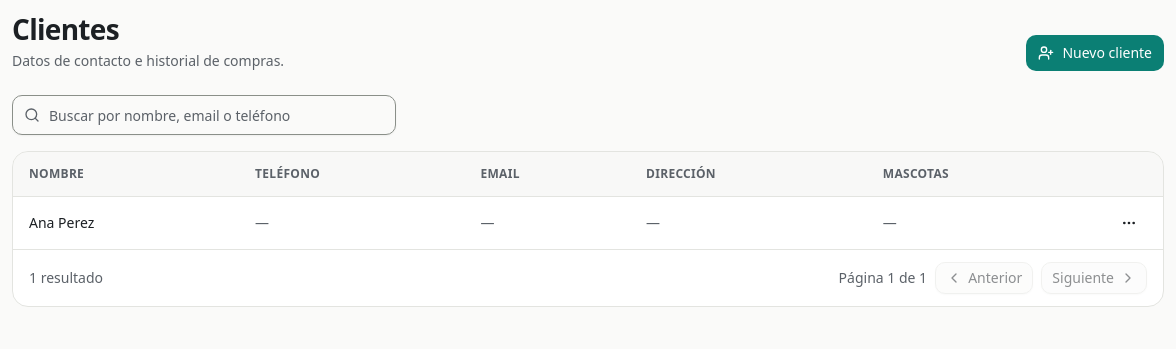
Test: ClientesPage › la dueña ve el menú de acciones
Step 1. Click the button named "Acciones de Ana Perez" → (1129, 222), box [1111, 204, 1147, 240]
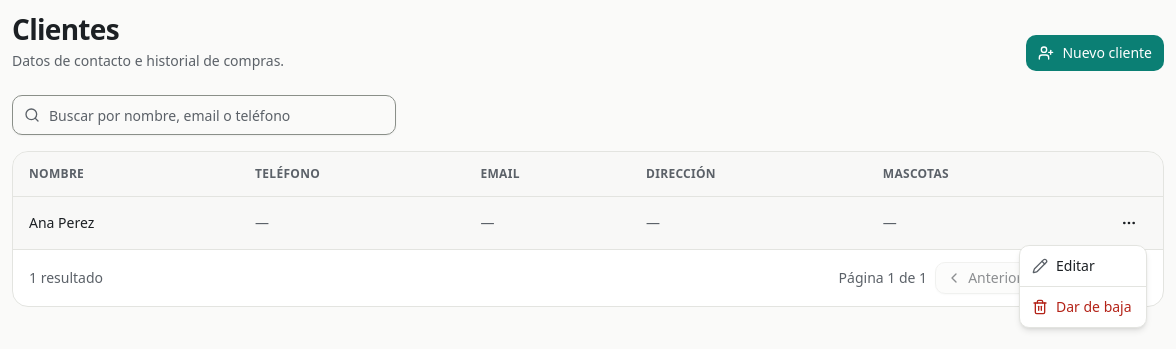
Now the menu item "Editar" is shown, box [1032, 256, 1095, 275]
Now the menu item "Dar de baja" is shown, box [1032, 297, 1132, 316]
